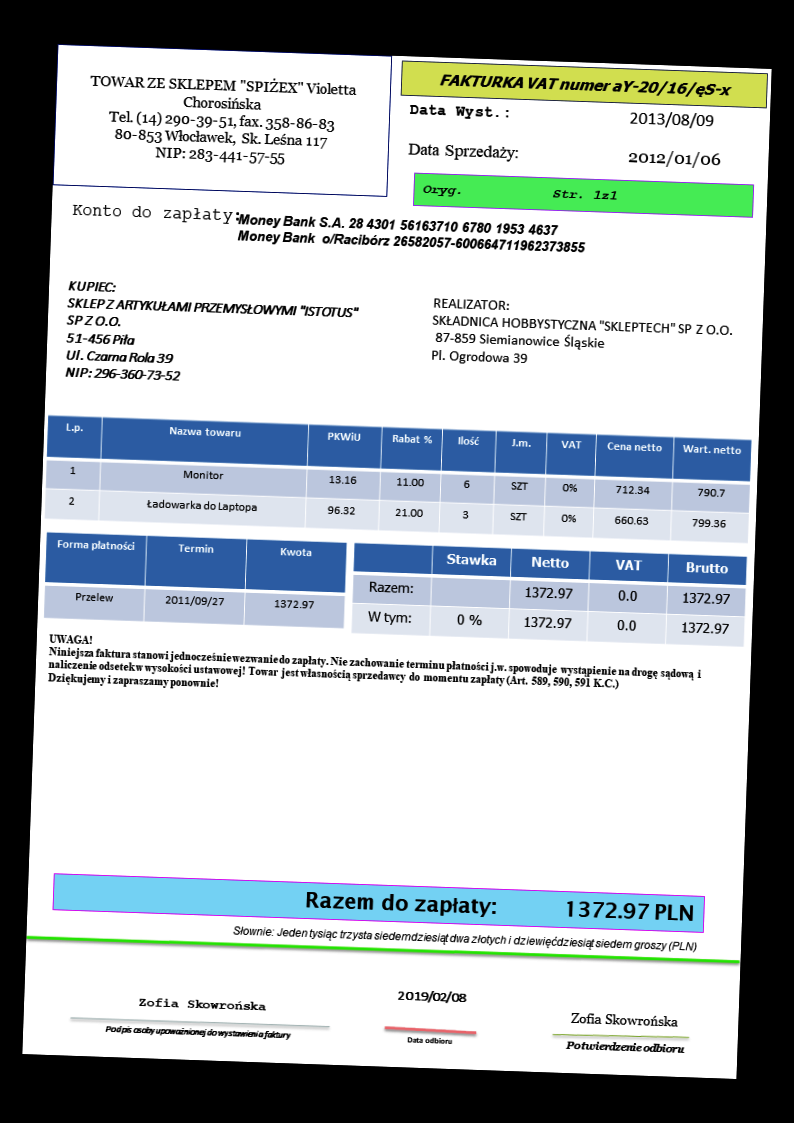Table: (43, 412, 754, 545), (349, 541, 749, 650), (42, 530, 349, 630)
TextBox: (43, 627, 707, 710), (61, 277, 363, 394), (80, 68, 362, 173), (425, 292, 737, 376), (300, 882, 696, 929), (232, 210, 589, 256), (229, 921, 699, 955), (437, 66, 738, 100), (420, 176, 622, 205), (68, 200, 241, 227), (102, 1022, 294, 1041), (403, 138, 520, 163), (136, 993, 269, 1014), (404, 98, 513, 123), (568, 1008, 685, 1030), (623, 145, 723, 170), (626, 105, 718, 132), (562, 1039, 687, 1056), (394, 985, 470, 1006), (403, 1031, 455, 1050)
